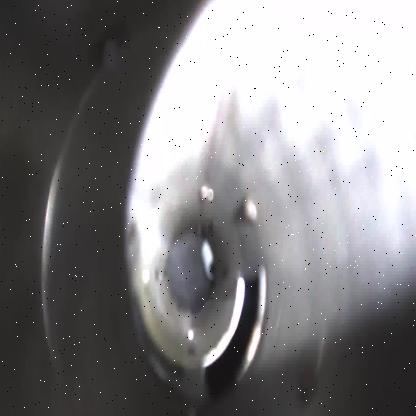Crack2: (203, 266, 269, 404)
